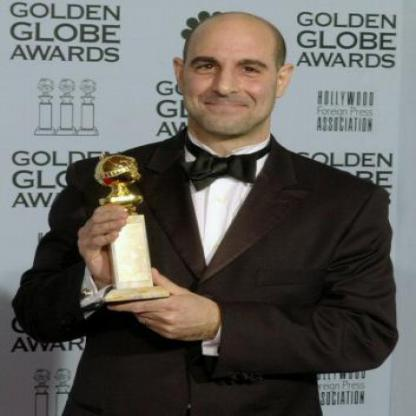face: (184, 13, 282, 137)
